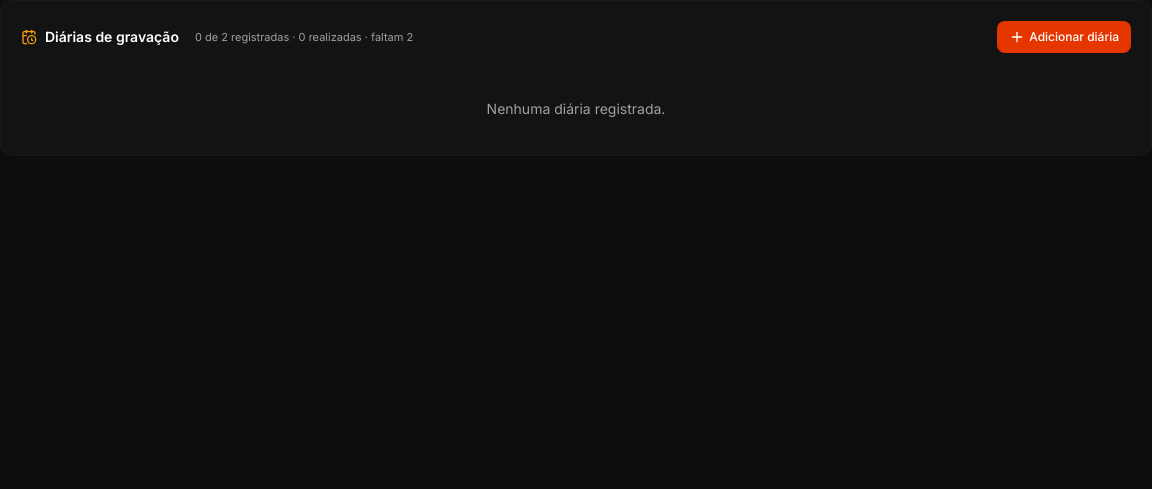
Test case: nova diária fica agendada por padrão e não aceita realização futura
The width and height of the screenshot is (1152, 489).
Later steps or results of the test are not shown.
Click the button "Adicionar diária" at (1064, 37), box [997,21,1131,53]
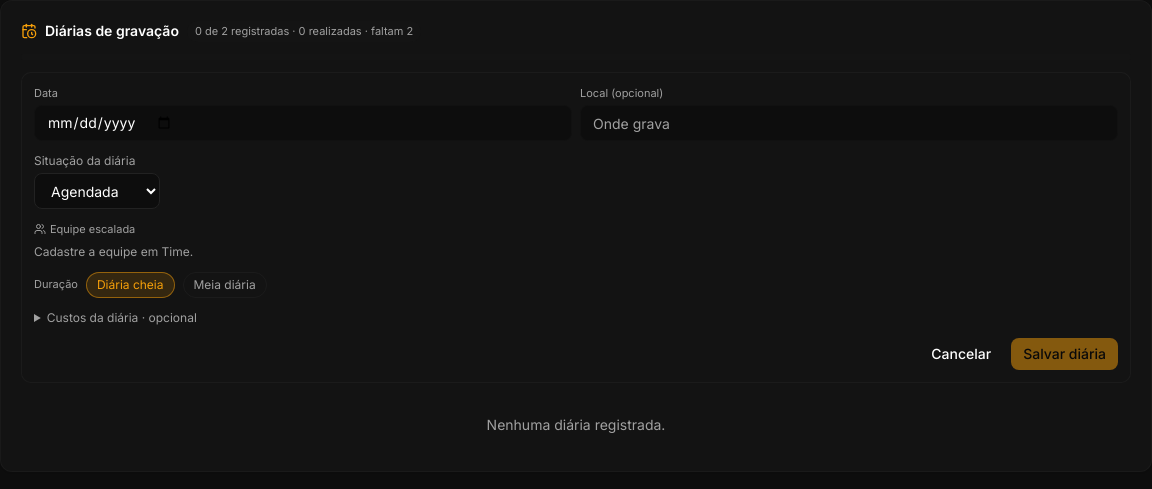
Result: the button "Salvar diária" is disabled at [1011,338,1118,370]
